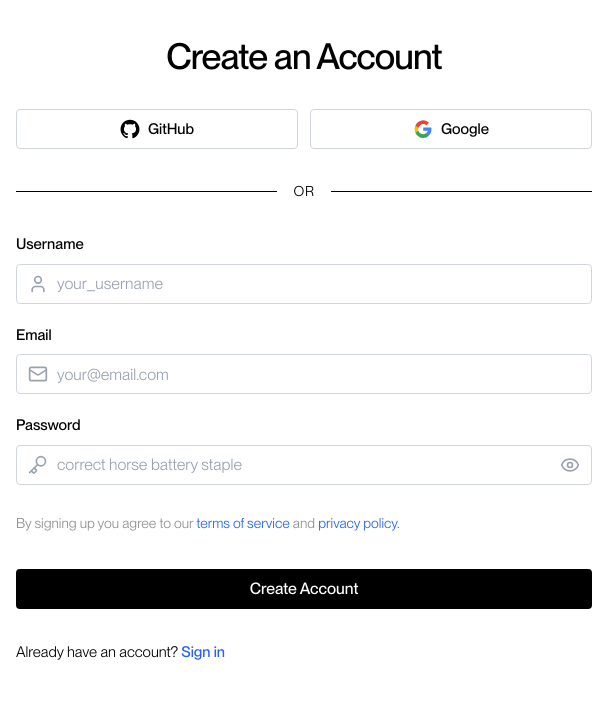
Test: CreateAccount Component › displays error on failed registration
Type "testuser" into the field with test id "username-input" at (304, 284), box [16,264,592,304]
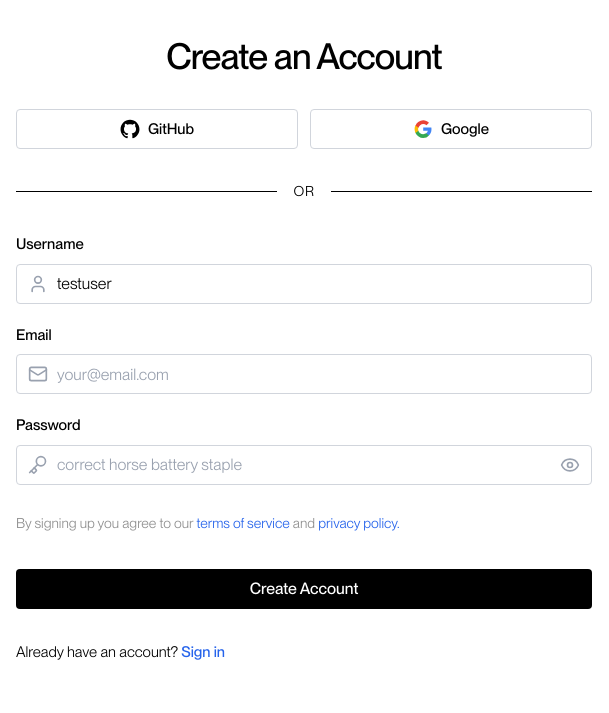
Type "test@example.com" into the field with test id "email-input" at (304, 374), box [16,354,592,394]
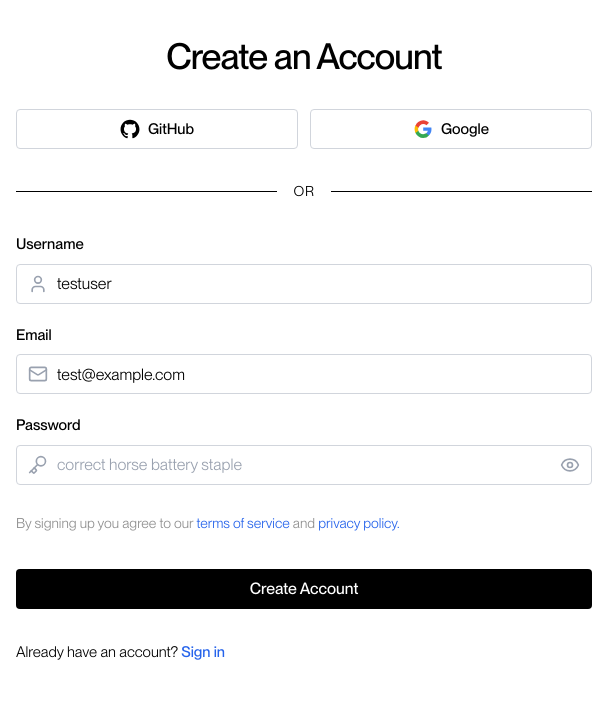
Type "Password123!" into the password field with test id "password-input" at (304, 464), box [16,444,592,484]
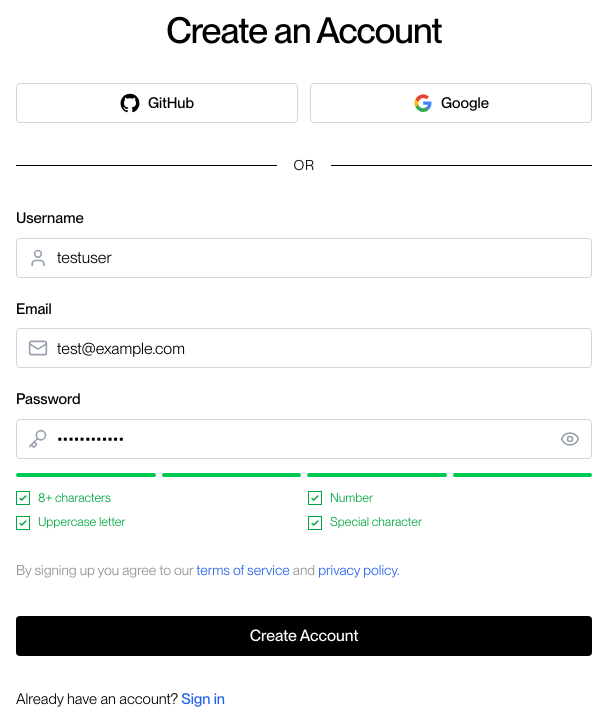
Click the button with test id "create-account-button" at (304, 636), box [16,616,592,656]
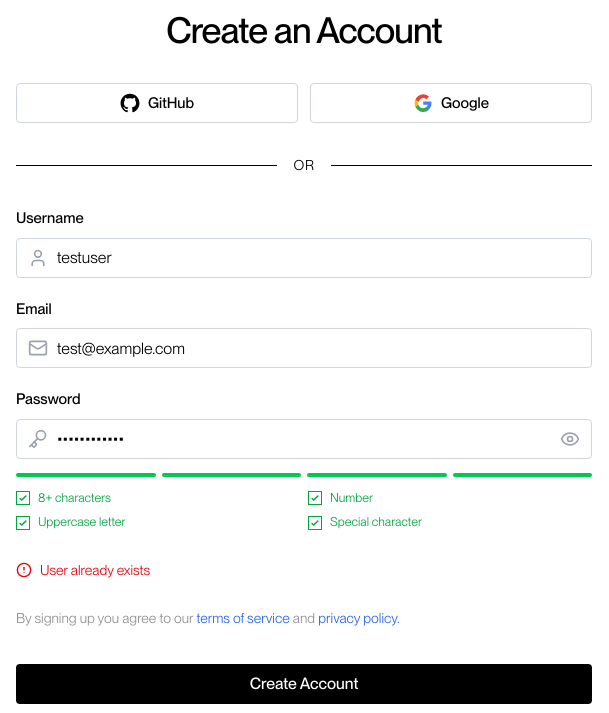
expect the text "User already exists" is shown: met, box [40,560,150,580]
